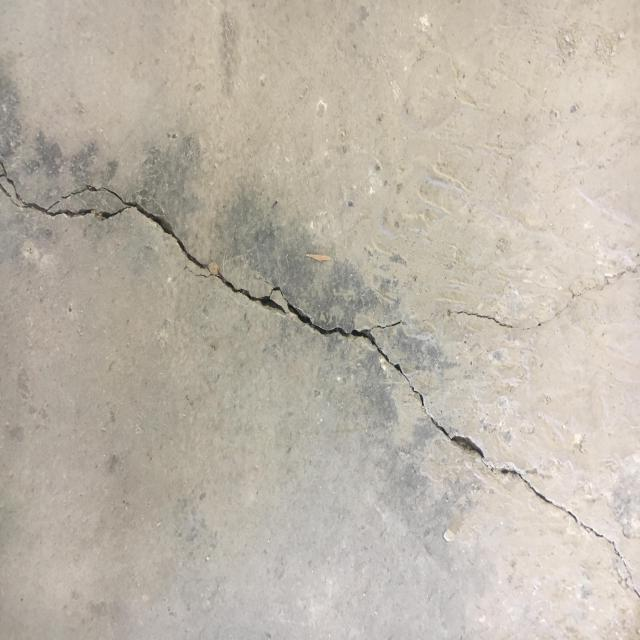SurfaceCrack: (0, 120, 638, 635)
